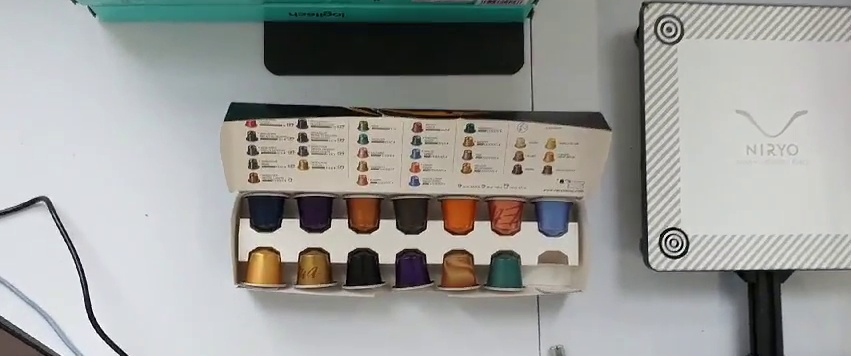capsule_1: (245, 192, 288, 235)
capsule_10: (343, 250, 387, 290)
capsule_11: (391, 247, 435, 292)
capsule_12: (439, 248, 481, 292)
capsule_13: (483, 251, 529, 296)
capsule_2: (293, 190, 338, 235)
capsule_3: (343, 192, 386, 236)
capsule_4: (393, 196, 432, 237)
capsule_5: (439, 195, 481, 236)
capsule_6: (487, 197, 529, 237)
capsule_7: (533, 198, 576, 239)
capsule_8: (243, 246, 286, 290)
capsule_9: (293, 249, 336, 291)
